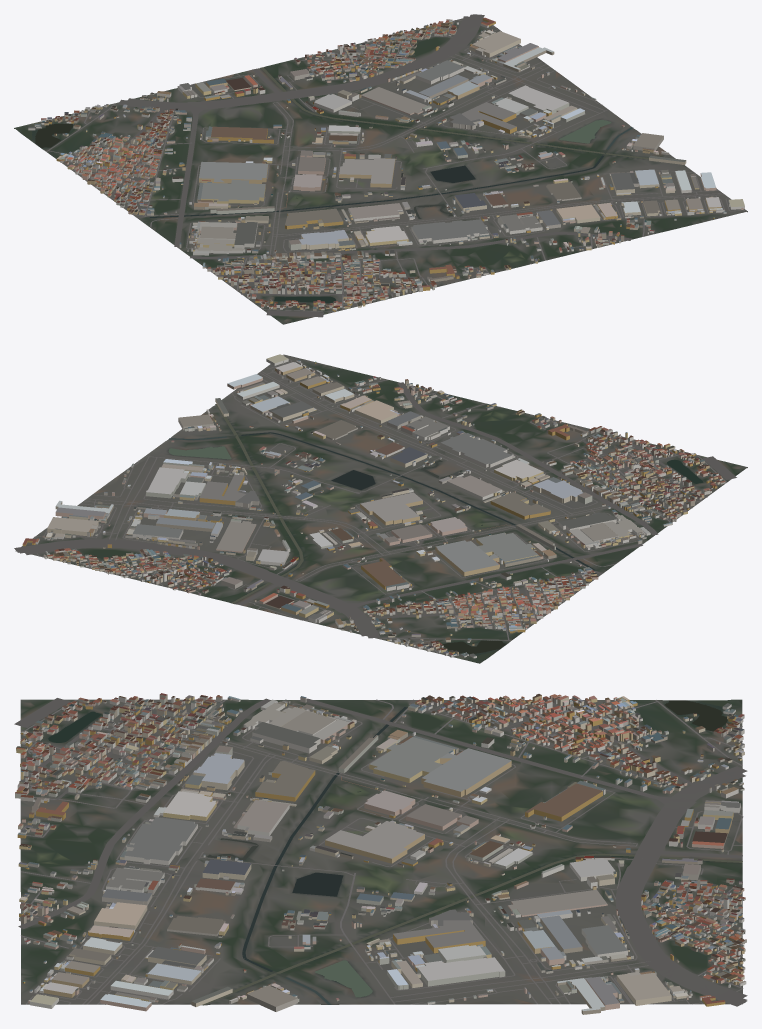
The picture shows the model from 3 angles, top to bottom: view 1: azimuth 30°, elevation 25°; view 2: azimuth 150°, elevation 25°; view 3: azimuth 270°, elevation 25°; orthographic projection. The views are drawn at different scales.
Parts seen in each view (by area): view 1: ground, buildings, roads, water; view 2: ground, buildings, roads, water; view 3: ground, buildings, roads, water.
Boxes of the visible parts, x1=… form: ground: x1=14, y1=18, x2=747, y2=324; buildings: x1=28, y1=17, x2=744, y2=311; roads: x1=46, y1=14, x2=745, y2=317; water: x1=21, y1=67, x2=648, y2=302; ground: x1=15, y1=354, x2=747, y2=663; buildings: x1=22, y1=354, x2=725, y2=658; roads: x1=14, y1=357, x2=736, y2=653; water: x1=168, y1=404, x2=703, y2=659; ground: x1=20, y1=699, x2=742, y2=1005; buildings: x1=15, y1=693, x2=746, y2=1014; roads: x1=14, y1=698, x2=747, y2=1006; water: x1=48, y1=700, x2=742, y2=1005.
Size of the model in its own units: 1455 by 29.18 by 1425.
